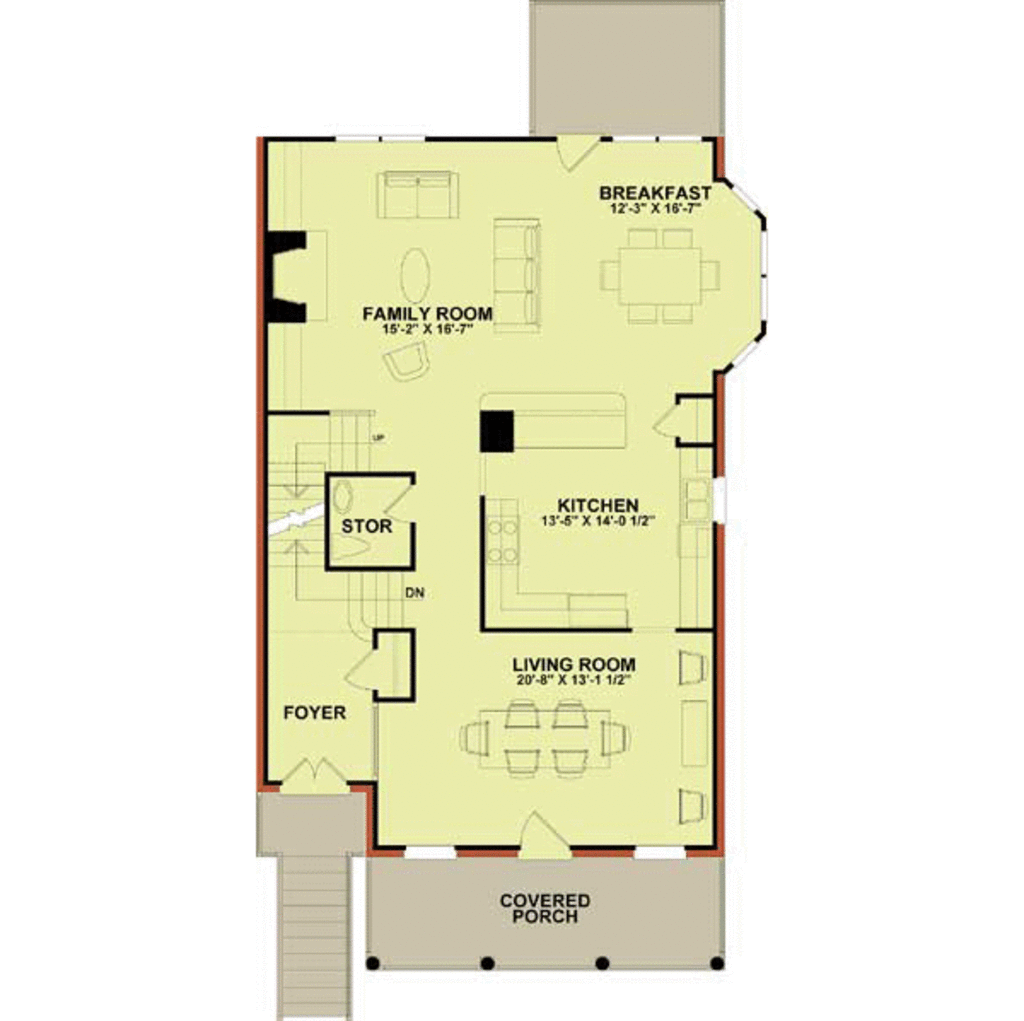dining_table: (599, 225, 727, 332), (463, 697, 633, 777)
door: (515, 805, 573, 854), (555, 131, 604, 177), (279, 757, 345, 791), (343, 649, 379, 691)
large_sofa: (490, 213, 546, 336), (366, 169, 462, 223)
stairs: (260, 412, 330, 627)
twin_sink: (677, 477, 711, 519)
